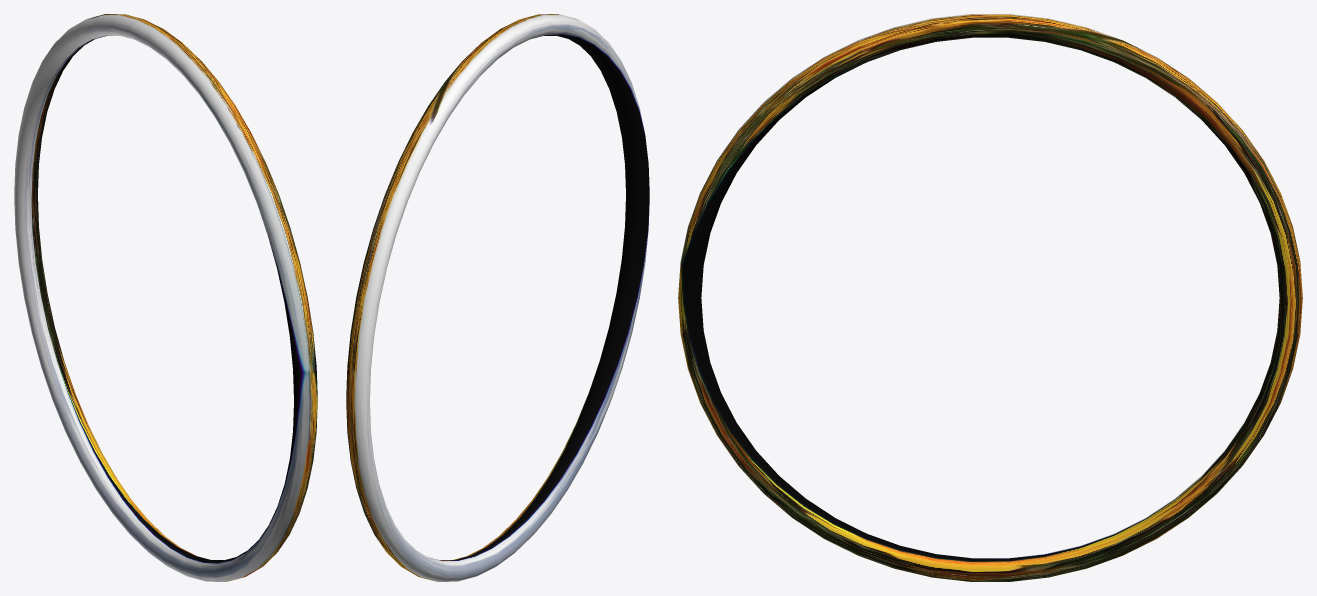
Rendered from tubetocut.obj.
3 views of the same model, side by side, from view 1: azimuth 30°, elevation 25°; view 2: azimuth 150°, elevation 25°; view 3: azimuth 270°, elevation 25° (orthographic). The views are drawn at different scales.
Parts seen in each view (by area): view 1: mesh2; view 2: mesh2; view 3: mesh2.
Part boxes in pixels (x1=…): mesh2: x1=14, y1=14, x2=317, y2=581; mesh2: x1=346, y1=14, x2=649, y2=581; mesh2: x1=678, y1=14, x2=1302, y2=581.
Bounding box in the file's own units: 5.28 × 125 × 126.
1 material, 1 textured.
